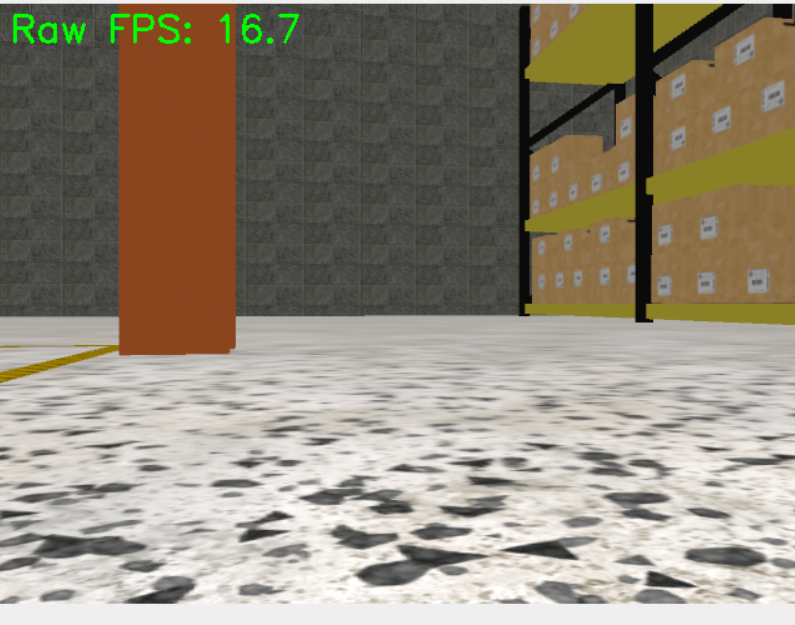barcode: (760, 80, 786, 113), (711, 104, 734, 135), (735, 34, 756, 65), (670, 71, 691, 99), (747, 268, 769, 294), (699, 216, 720, 241), (697, 271, 717, 295), (670, 125, 688, 151), (656, 224, 674, 247), (616, 160, 632, 184), (619, 116, 634, 141), (656, 274, 673, 296), (591, 173, 603, 194), (599, 267, 610, 287), (599, 225, 611, 243)
